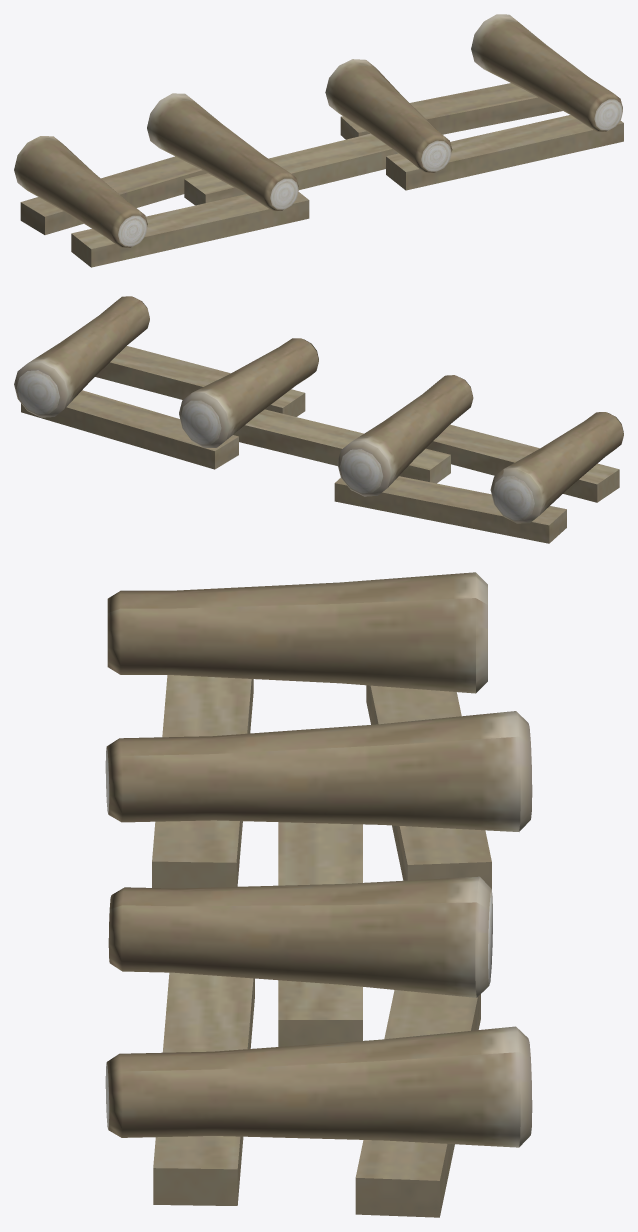
File: FenceWood.FBX
3 views of the same model, one above another, from view 1: azimuth 30°, elevation 25°; view 2: azimuth 150°, elevation 25°; view 3: azimuth 270°, elevation 25° (orthographic). The views are drawn at different scales.
Parts seen in each view (by area): view 1: Fence_pCylinder324_1__Wood01, Fence_pCube2088_1__Wood00_T; view 2: Fence_pCylinder324_1__Wood01, Fence_pCube2088_1__Wood00_T; view 3: Fence_pCylinder324_1__Wood01, Fence_pCube2088_1__Wood00_T.
Part boxes in pixels (x1,y1,x2,y2): Fence_pCylinder324_1__Wood01: [14, 14, 622, 247]; Fence_pCube2088_1__Wood00_T: [20, 83, 623, 267]; Fence_pCylinder324_1__Wood01: [14, 296, 623, 523]; Fence_pCube2088_1__Wood00_T: [21, 346, 619, 543]; Fence_pCylinder324_1__Wood01: [105, 572, 532, 1147]; Fence_pCube2088_1__Wood00_T: [152, 675, 491, 1217].
Size of the model in its own units: 363 by 49.99 by 126.
